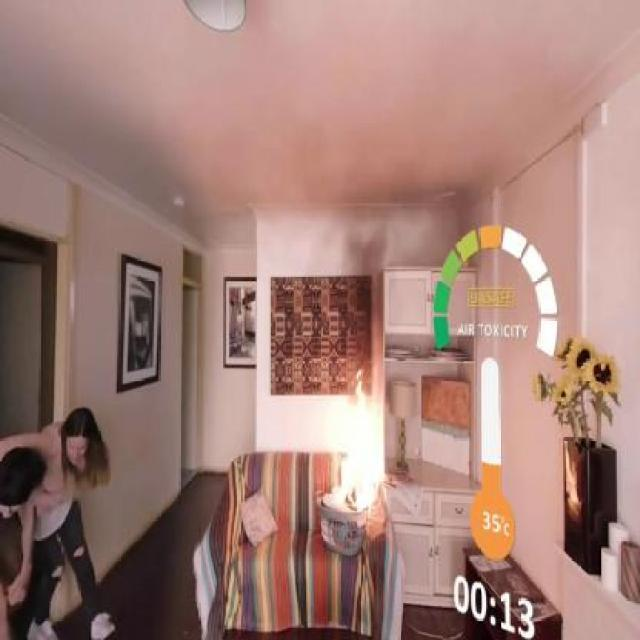fire: (318, 431, 393, 546)
